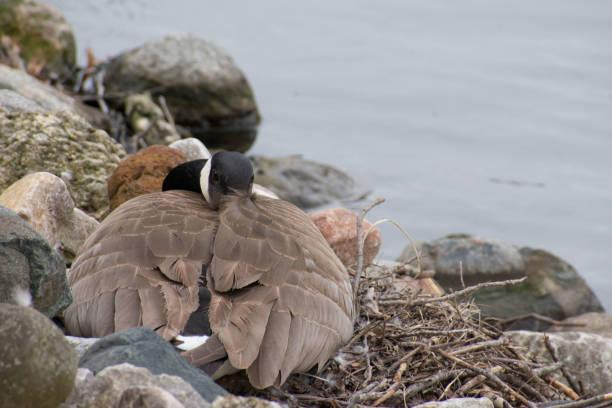Canadian-Goose: (64, 150, 354, 377)
